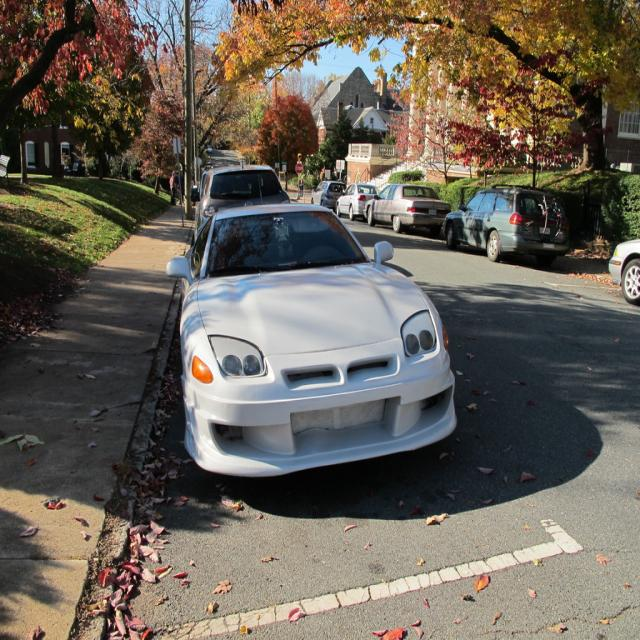car: (166, 202, 455, 476), (439, 177, 566, 263), (362, 177, 450, 229)
